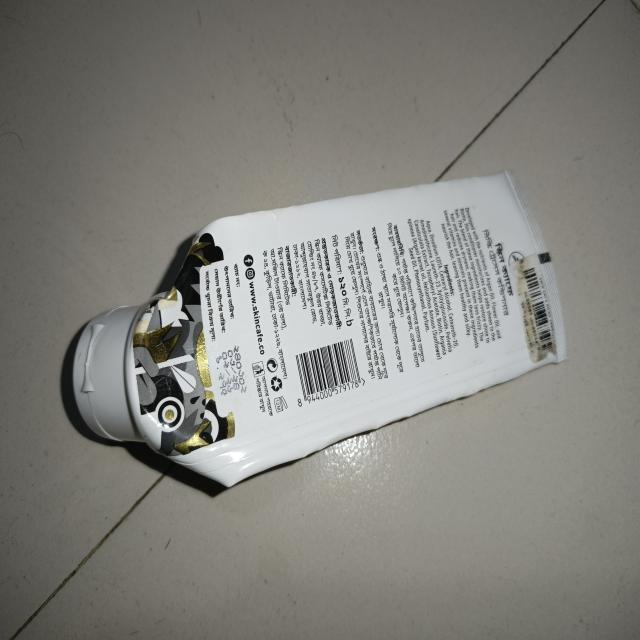Squeeze Tube: (64, 165, 576, 510)
